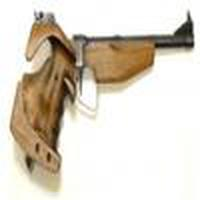gun: (14, 18, 200, 171)
